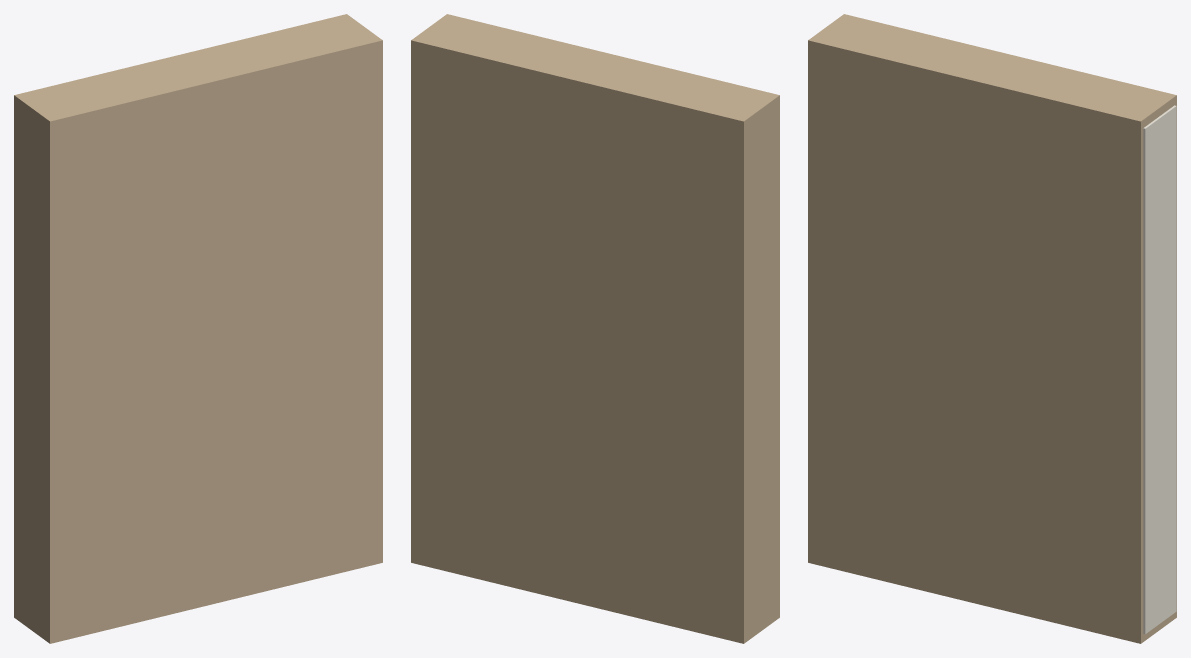
The model's file is book-hardcover.glb.
3 views of the same model, side by side, from view 1: azimuth 30°, elevation 25°; view 2: azimuth 150°, elevation 25°; view 3: azimuth 330°, elevation 25° (orthographic).
Parts seen in each view (by area): view 1: book-hardcover; view 2: book-hardcover; view 3: book-hardcover.
Part boxes in pixels (<box>): book-hardcover: <box>14,14,382,643</box>; book-hardcover: <box>411,14,779,643</box>; book-hardcover: <box>808,14,1176,643</box>.
Bounding box in the file's own units: 0.1611 × 0.24 × 0.03.
